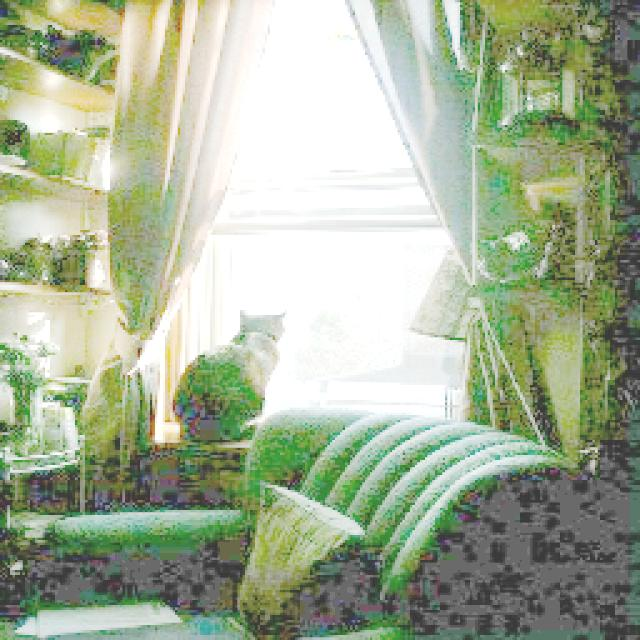cat: (162, 299, 304, 448)
